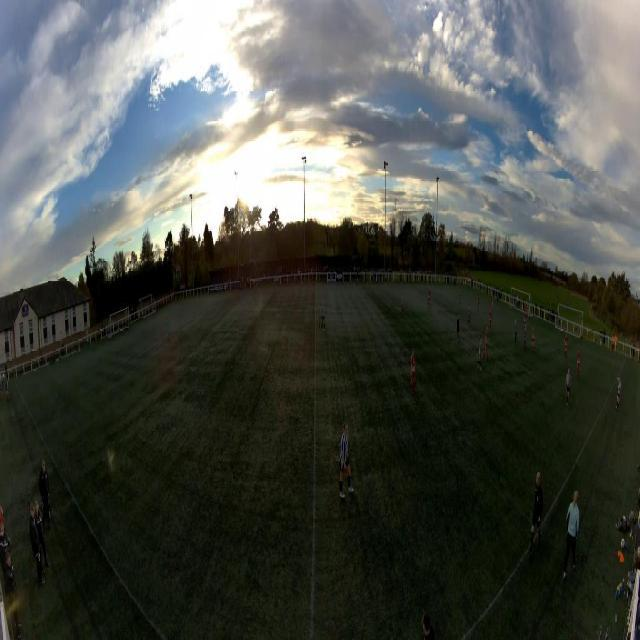player: (338, 420, 354, 502), (411, 347, 416, 394), (565, 367, 571, 405), (477, 336, 483, 370), (483, 329, 488, 361), (576, 349, 581, 377), (320, 302, 325, 330), (457, 314, 461, 342), (531, 325, 535, 352), (514, 320, 518, 347), (564, 333, 568, 358), (167, 317, 171, 342), (523, 324, 527, 348), (488, 310, 492, 332), (468, 305, 471, 326), (400, 294, 403, 314), (428, 289, 431, 308), (524, 312, 527, 331), (491, 297, 494, 315), (477, 293, 480, 311), (459, 287, 461, 303), (524, 301, 526, 313)
